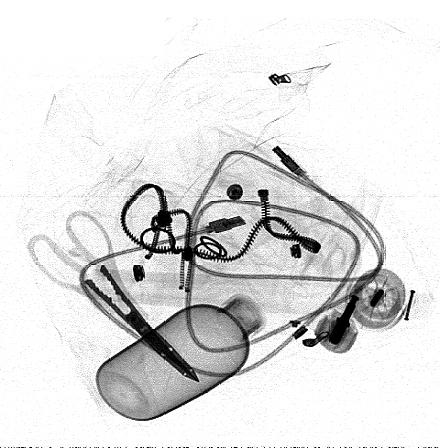Scissors: (22, 208, 200, 387)
